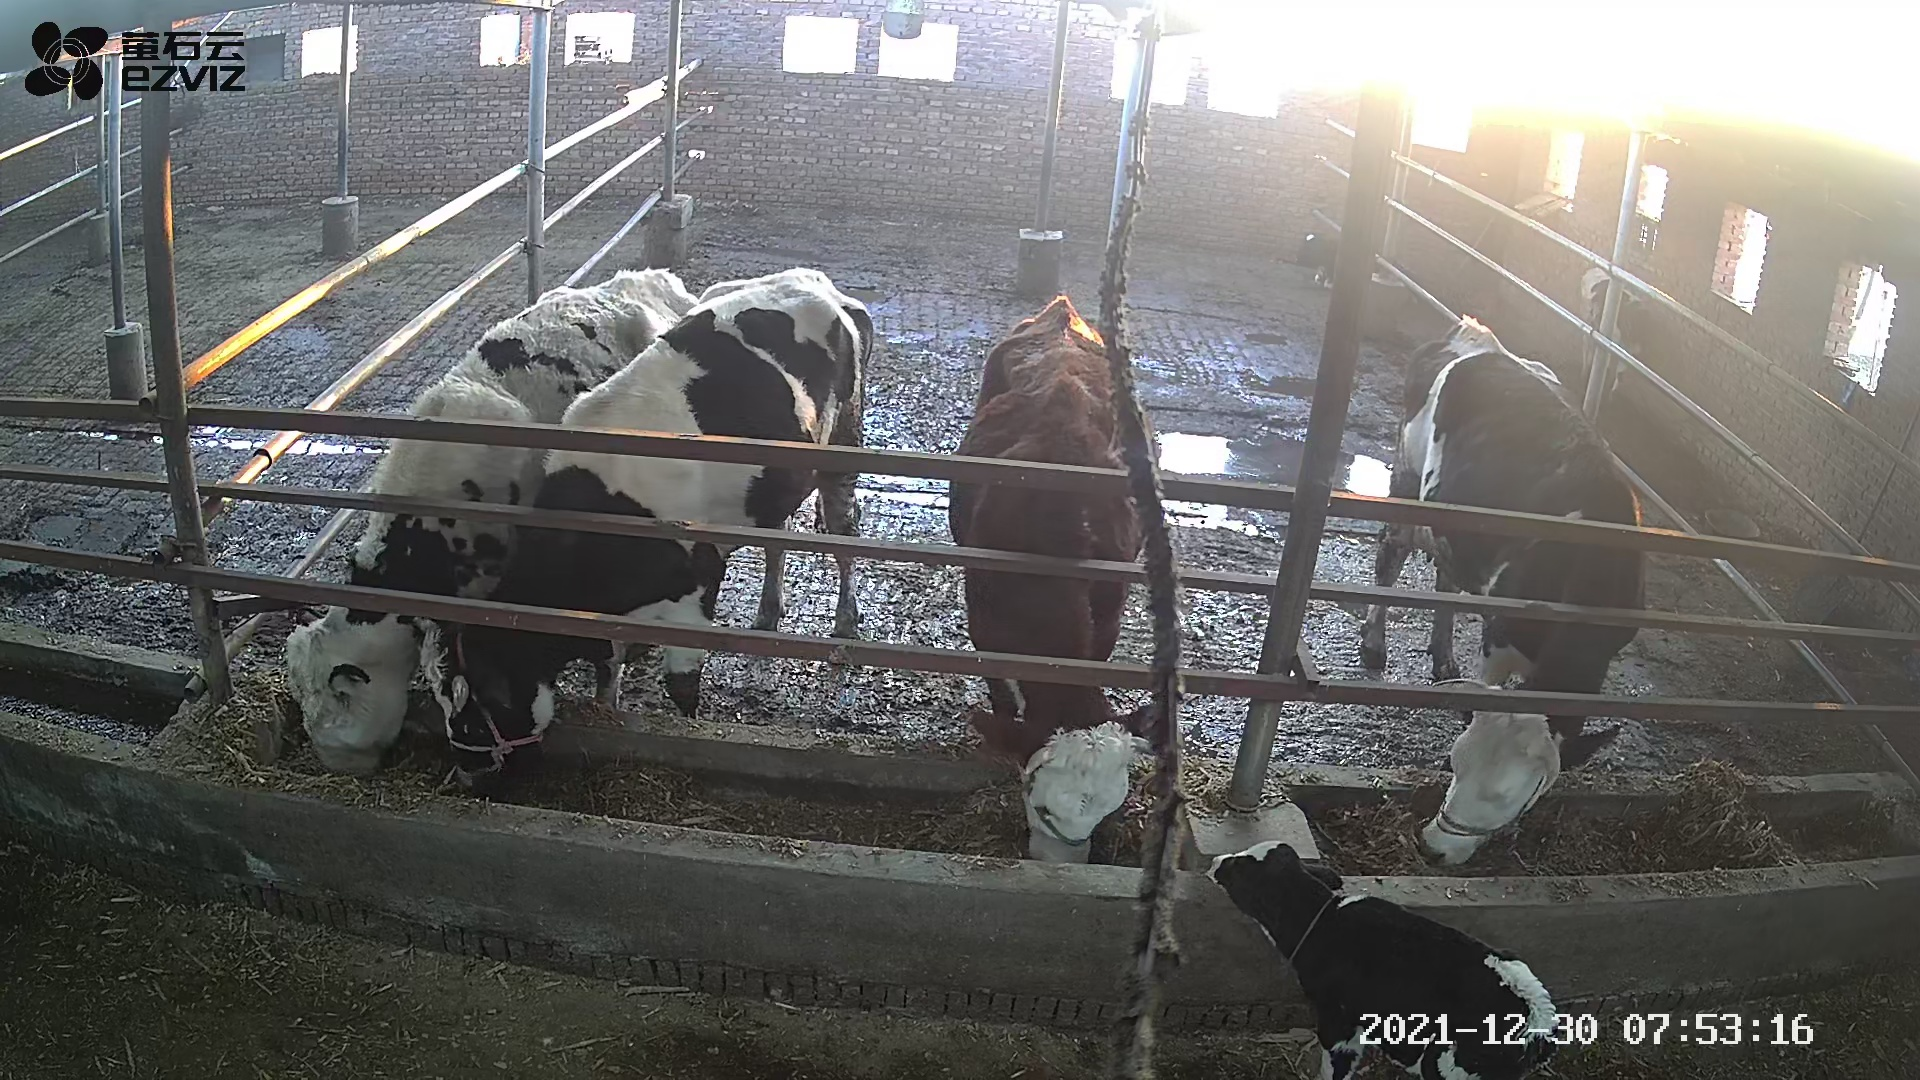cow: (414, 266, 873, 800), (281, 266, 696, 777), (1356, 313, 1640, 868), (947, 295, 1166, 866)
